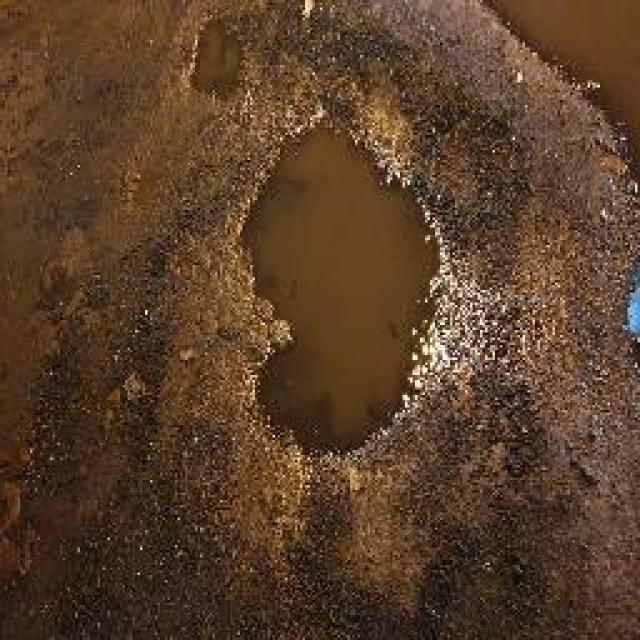puddle: (238, 121, 457, 462), (480, 1, 640, 191)
